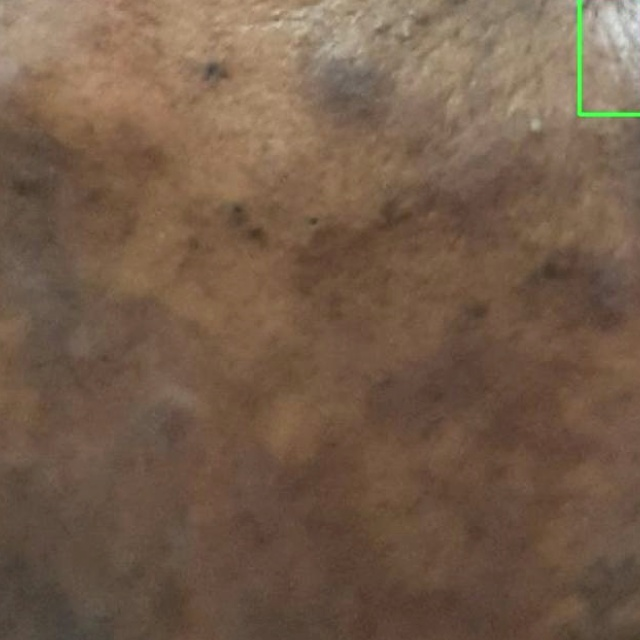Contact Dermatitis: (579, 0, 639, 114)
